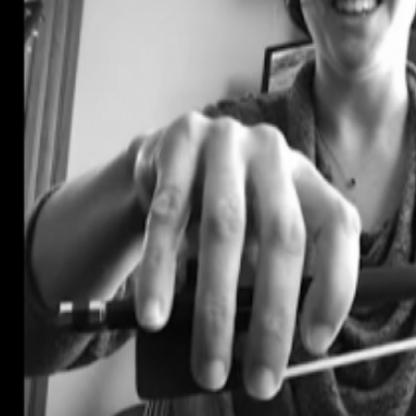good: (137, 93, 366, 407)
